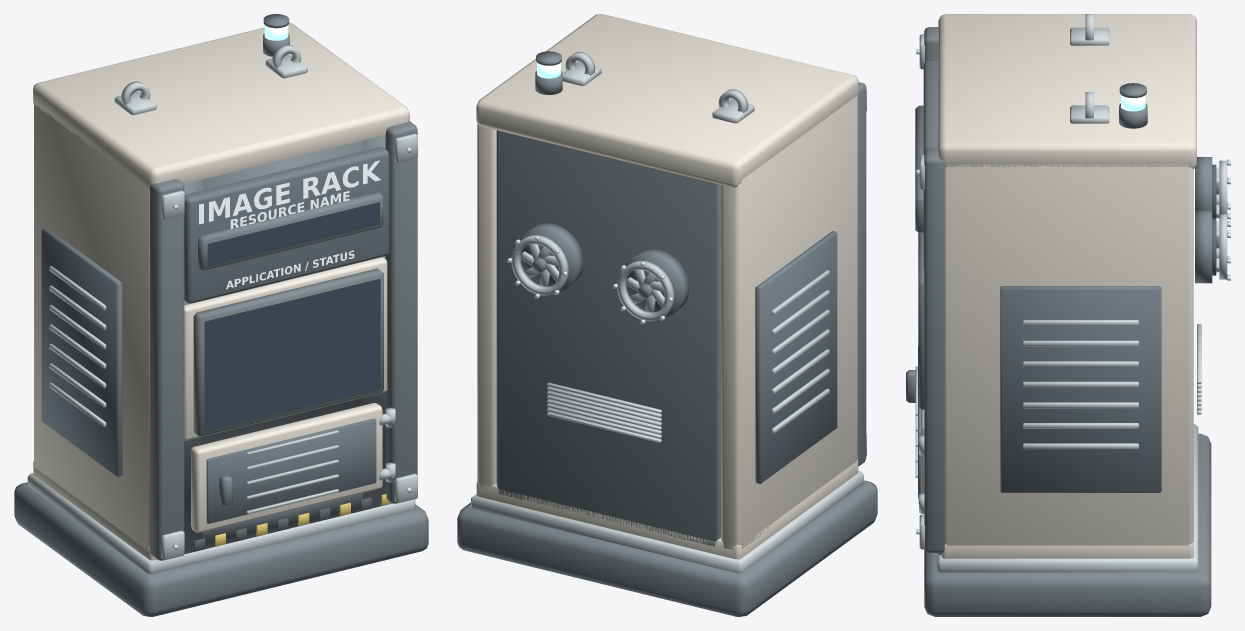
The model's file is image_rack_enhanced.glb.
3 renders of one model, left to right at view 1: azimuth 30°, elevation 25°; view 2: azimuth 150°, elevation 25°; view 3: azimuth 270°, elevation 25°, orthographic. The views are drawn at different scales.
Parts seen in each view (by area): view 1: Roof_cream, SideWall_cream, CornerPost_frame, LiveViewSurface_glass, Skid_frame, FrontHeader_graphite, SideServicePanel_graphite, DoorMoving_Inset_graphite, DoorMoving_Panel_cream, SkidDeck_steel, LiveViewSurfaceFrame_frame, ScreenSupport_cream (+16 smaller); view 2: BackWall_frame, SideWall_cream, Roof_cream, Skid_frame, SideServicePanel_graphite, SkidDeck_steel, KickPlate_cream, RearFan_steel, RearVent_steel, CornerPost_frame, RearFan_frame, SideLouver_steel (+3 smaller); view 3: SideWall_cream, Roof_cream, SideServicePanel_graphite, Skid_frame, CornerPost_frame, SideLouver_steel, SkidDeck_steel, KickPlate_cream, RearFan_frame, FrontHeader_graphite, RearFan_steel, LiftMount_steel (+7 smaller).
Boxes of the visible parts, <box> form: Roof_cream: <box>33,23,409,189</box>; SideWall_cream: <box>34,103,149,550</box>; CornerPost_frame: <box>150,121,417,560</box>; LiveViewSurface_glass: <box>204,278,380,432</box>; Skid_frame: <box>14,482,428,616</box>; FrontHeader_graphite: <box>184,147,389,303</box>; SideServicePanel_graphite: <box>41,227,122,476</box>; DoorMoving_Inset_graphite: <box>206,418,376,523</box>; DoorMoving_Panel_cream: <box>191,403,382,532</box>; SkidDeck_steel: <box>27,473,415,573</box>; LiveViewSurfaceFrame_frame: <box>193,268,383,436</box>; ScreenSupport_cream: <box>184,257,387,440</box>; BackWall_frame: <box>496,130,720,546</box>; SideWall_cream: <box>477,96,857,550</box>; Roof_cream: <box>476,14,858,187</box>; Skid_frame: <box>457,480,877,616</box>; SideServicePanel_graphite: <box>755,231,837,483</box>; SkidDeck_steel: <box>471,471,863,573</box>; KickPlate_cream: <box>476,459,858,559</box>; RearFan_steel: <box>511,235,674,321</box>; RearVent_steel: <box>547,382,661,442</box>; CornerPost_frame: <box>857,82,866,466</box>; RearFan_frame: <box>519,223,689,317</box>; SideLouver_steel: <box>772,270,829,433</box>; SideWall_cream: <box>945,164,1193,545</box>; Roof_cream: <box>938,14,1196,168</box>; SideServicePanel_graphite: <box>1000,286,1161,492</box>; Skid_frame: <box>924,433,1211,616</box>; CornerPost_frame: <box>924,27,945,552</box>; SideLouver_steel: <box>1023,320,1138,449</box>; SkidDeck_steel: <box>937,424,1198,572</box>; KickPlate_cream: <box>941,542,1193,558</box>; RearFan_frame: <box>1195,157,1212,283</box>; FrontHeader_graphite: <box>923,60,938,269</box>; RearFan_steel: <box>1216,160,1227,279</box>; LiftMount_steel: <box>1070,27,1109,123</box>.
Size of the model in its own units: 1.6 by 2.53 by 1.48.
